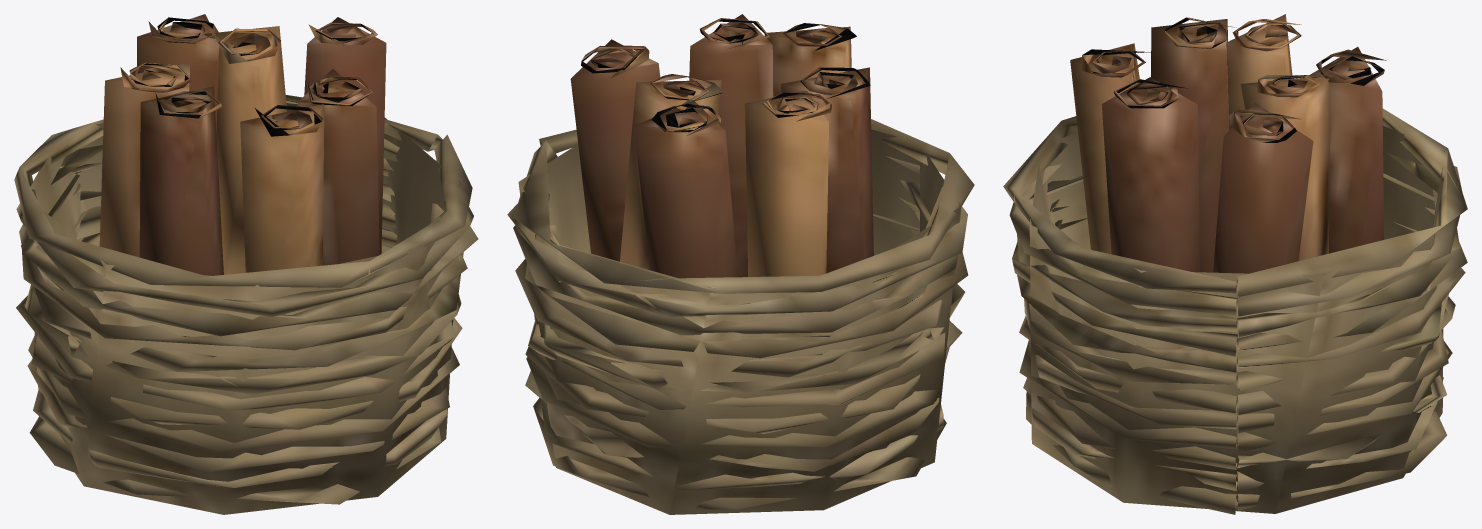
File: log_basket.glb
3 renders of one model, left to right at view 1: azimuth 30°, elevation 25°; view 2: azimuth 150°, elevation 25°; view 3: azimuth 270°, elevation 25°, orthographic.
Visible parts, largest first — view 1: prop_log_basket_felt; view 2: prop_log_basket_felt; view 3: prop_log_basket_felt.
Part boxes in pixels (x1,y1,x2,y2): prop_log_basket_felt: [14, 14, 478, 514]; prop_log_basket_felt: [507, 14, 974, 514]; prop_log_basket_felt: [1003, 14, 1467, 514].
Size of the model in its own units: 0.7358 by 0.6294 by 0.7238.
1 material, 1 textured.
